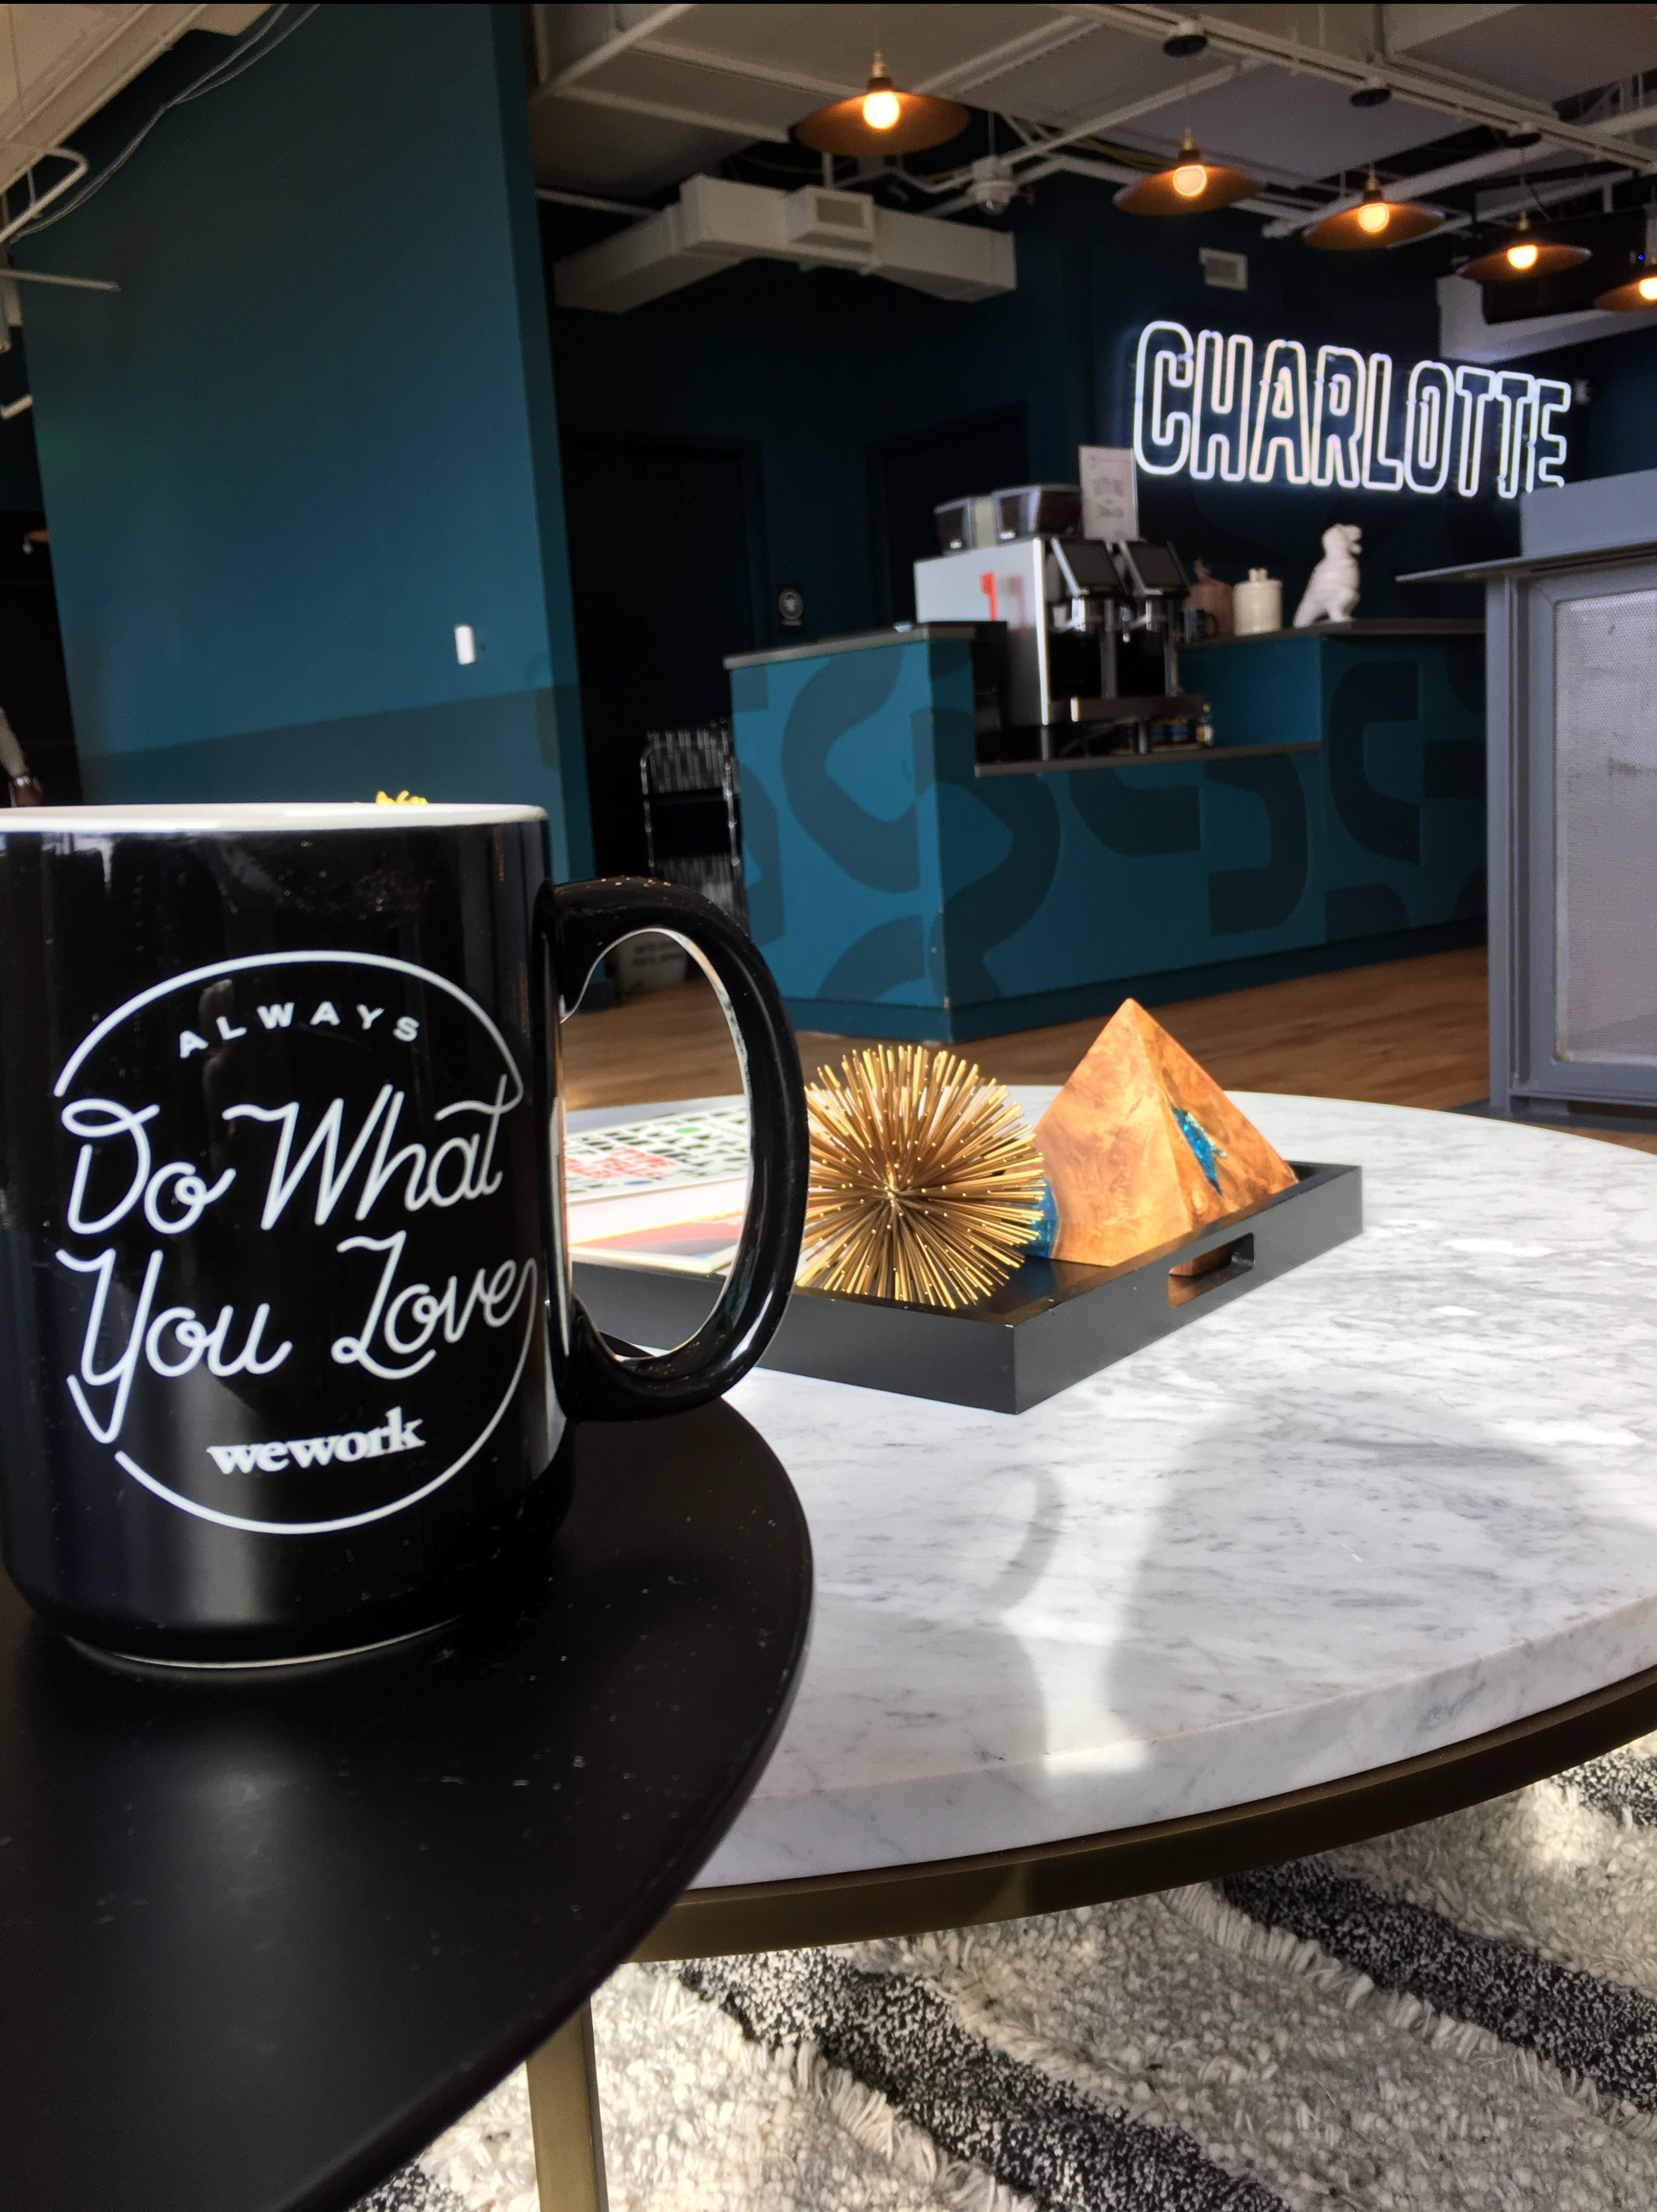wework: (178, 1408, 430, 1479)
